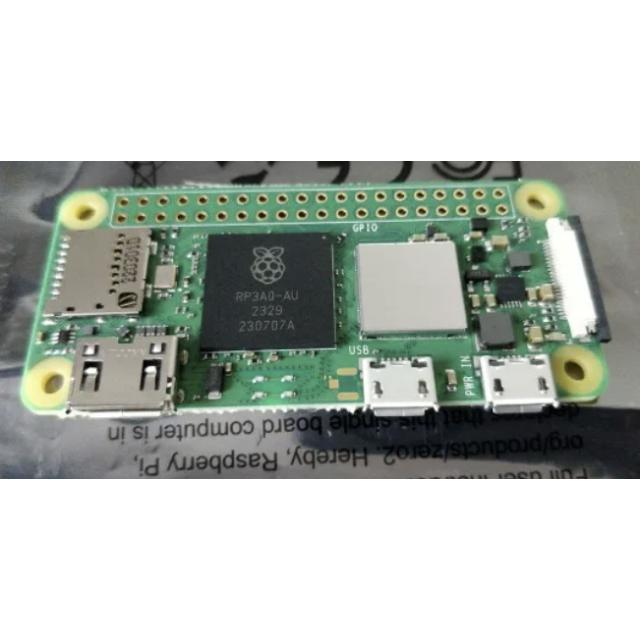Raspberry-Pi-Zero-2-W: (22, 180, 610, 417)
